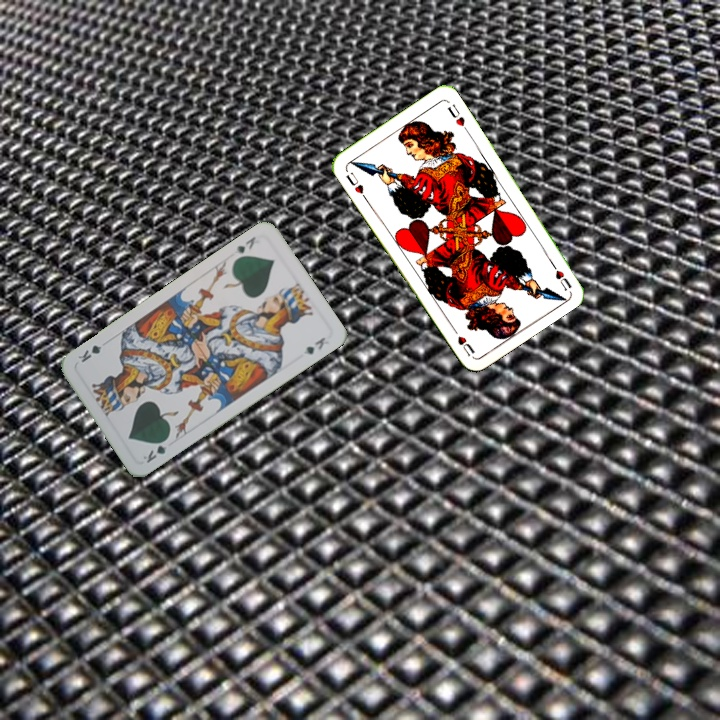GK: (139, 434, 172, 466), (232, 232, 258, 256)
HU: (546, 256, 574, 293), (342, 168, 366, 197)
